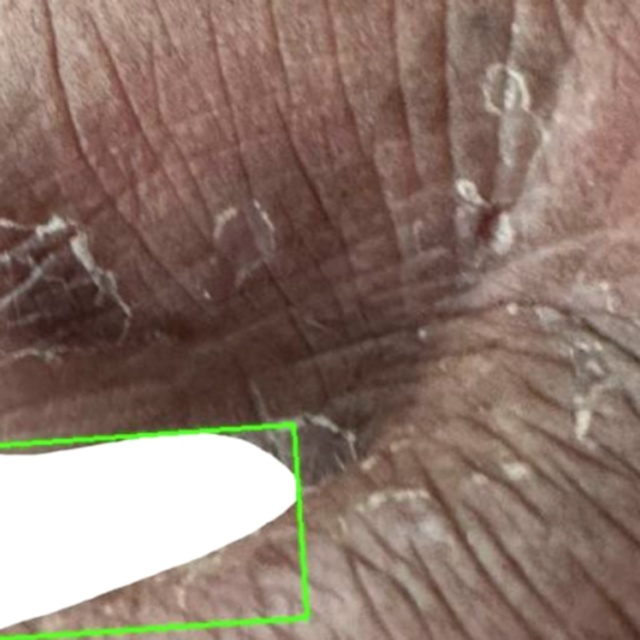Scabies: (0, 425, 308, 639)
